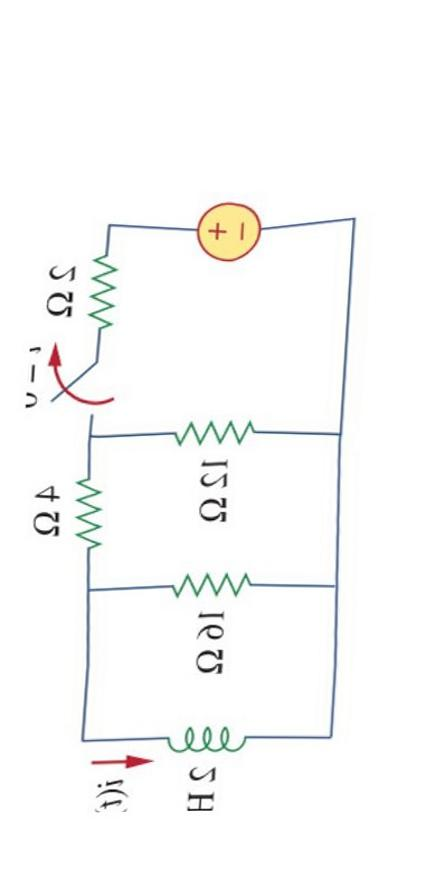Battery: (171, 175, 277, 283)
